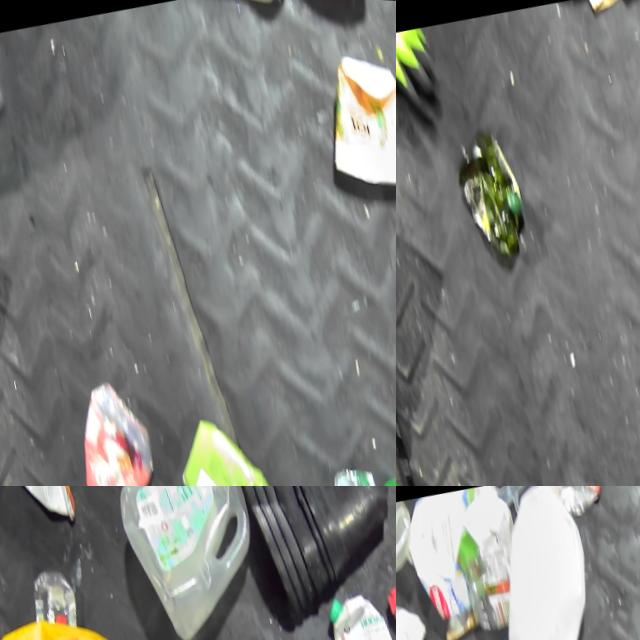can: (320, 459, 392, 486)
milk_jug: (102, 486, 277, 640), (470, 486, 617, 640)
non_white_jug: (53, 367, 174, 486), (170, 403, 306, 486)
plastic_bottle: (376, 531, 396, 640)
